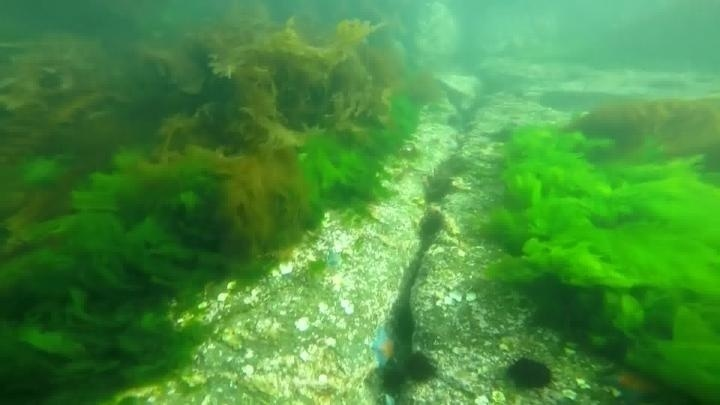echinus: (503, 354, 556, 394), (401, 350, 439, 386), (389, 303, 419, 348), (376, 364, 411, 398), (416, 208, 448, 243)
starfish: (597, 362, 664, 404), (367, 322, 400, 372)
